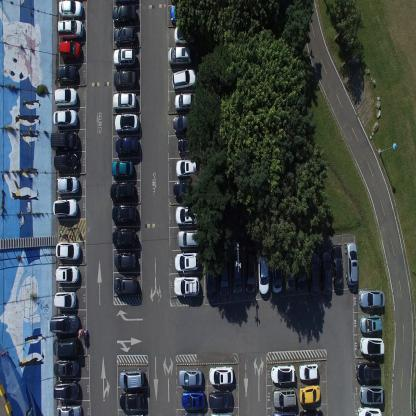car: (344, 241, 359, 286), (49, 313, 79, 334), (271, 385, 296, 409), (109, 180, 136, 202), (53, 380, 80, 402), (173, 113, 201, 134), (50, 130, 78, 151), (173, 275, 199, 297), (359, 383, 385, 405), (208, 388, 234, 410), (308, 250, 320, 297), (56, 19, 84, 39), (295, 244, 307, 290), (112, 1, 136, 24), (298, 382, 322, 405), (175, 204, 200, 226), (172, 68, 197, 90), (356, 360, 381, 382), (119, 367, 144, 389), (359, 289, 385, 310), (359, 335, 385, 356), (52, 197, 78, 218), (209, 365, 235, 386), (169, 2, 196, 22), (175, 90, 199, 112), (271, 245, 282, 293), (168, 42, 192, 64), (112, 227, 136, 249), (58, 40, 82, 62), (53, 86, 77, 108), (114, 112, 139, 133), (111, 204, 137, 224), (55, 240, 81, 260), (54, 358, 80, 378), (270, 364, 296, 384), (178, 367, 202, 388), (113, 275, 138, 295), (53, 152, 78, 172), (119, 391, 144, 411), (321, 249, 332, 294), (258, 249, 269, 294), (332, 244, 343, 289), (57, 0, 83, 19), (283, 251, 295, 292), (52, 337, 79, 355), (113, 24, 135, 46), (174, 251, 198, 271), (206, 254, 216, 302), (173, 23, 197, 43), (112, 91, 137, 110), (52, 108, 77, 127), (55, 265, 80, 284), (245, 249, 256, 292), (173, 180, 199, 198), (218, 254, 229, 296), (113, 69, 136, 89), (113, 47, 136, 67), (56, 174, 79, 194), (178, 136, 202, 155), (175, 158, 199, 177), (115, 136, 139, 155), (231, 252, 242, 293), (177, 228, 199, 248), (360, 313, 382, 333), (114, 251, 137, 270), (110, 159, 134, 177), (182, 390, 206, 408), (56, 64, 78, 83), (298, 362, 320, 381), (53, 291, 76, 309), (56, 403, 82, 415), (357, 405, 382, 415), (299, 408, 324, 416), (272, 409, 297, 415), (209, 410, 233, 415), (182, 410, 205, 415)
